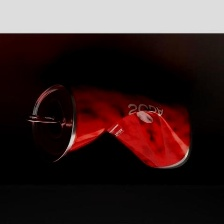can: (21, 72, 197, 172)
